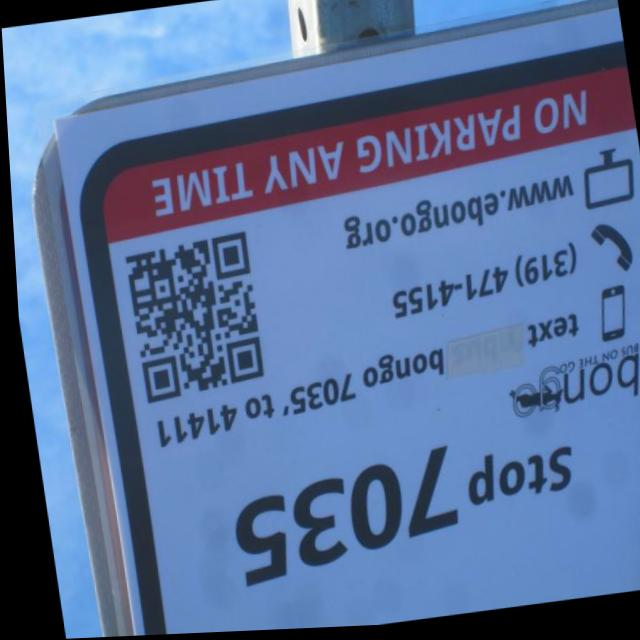qrcode: (121, 233, 263, 405)
